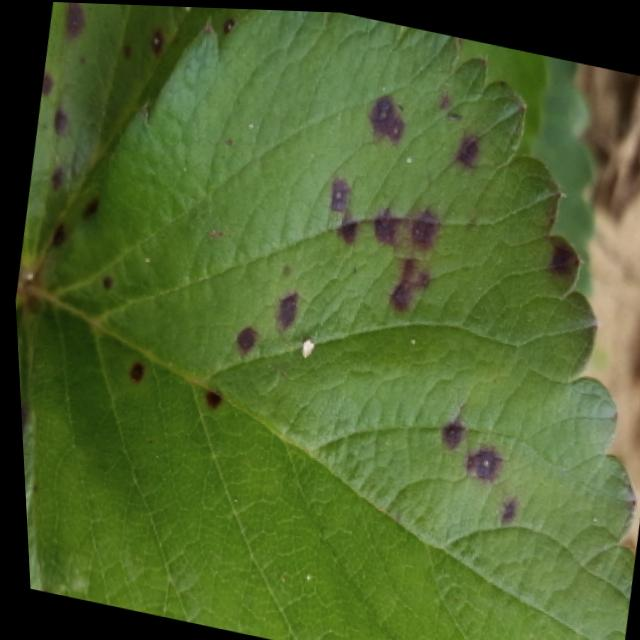Leaf Spot: (17, 7, 629, 640), (17, 1, 250, 256), (455, 33, 553, 148)
